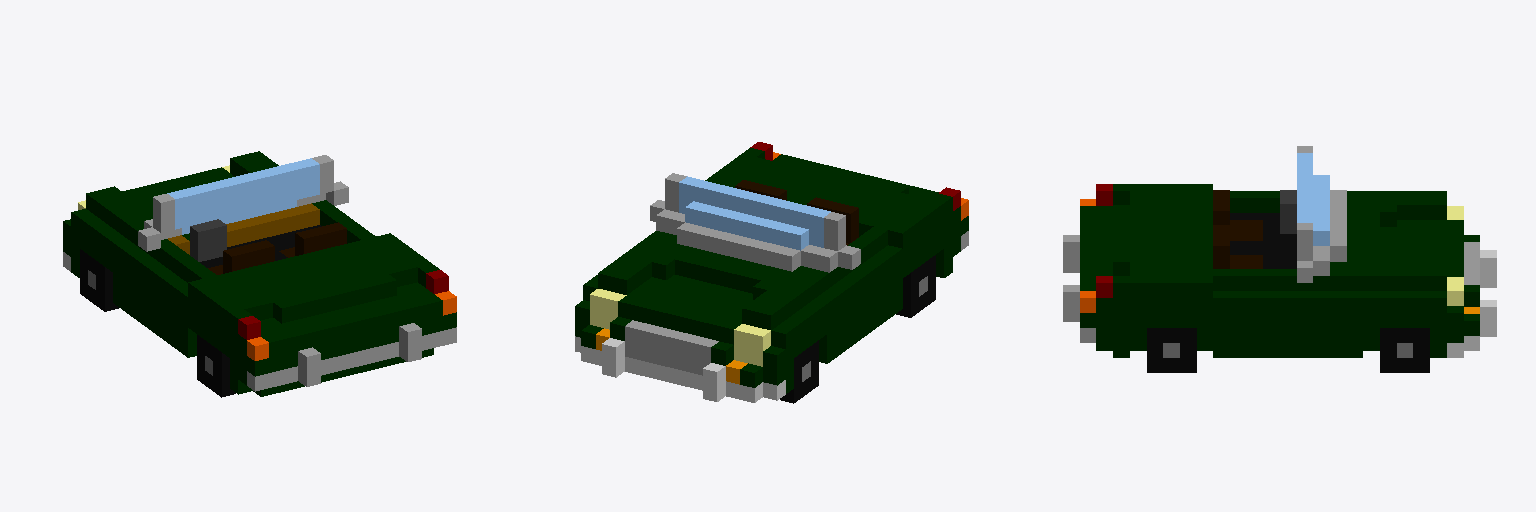
The picture shows the model from 3 angles: view 1: azimuth 30°, elevation 25°; view 2: azimuth 150°, elevation 25°; view 3: azimuth 270°, elevation 25°; orthographic projection.
Parts seen in each view (by area): view 1: object 1; view 2: object 1; view 3: object 1.
Boxes of the visible parts, x1=… form: object 1: x1=63, y1=151, x2=456, y2=397; object 1: x1=575, y1=142, x2=968, y2=403; object 1: x1=1063, y1=146, x2=1496, y2=372.
Size of the model in its own units: 1.4 by 0.9 by 2.6.
1 materials, 1 textured.